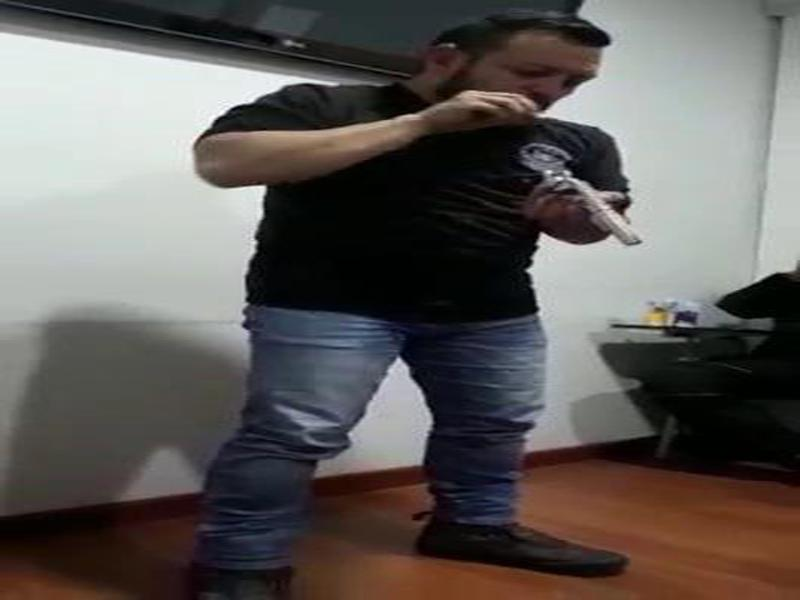Revolver: (492, 142, 669, 275)
